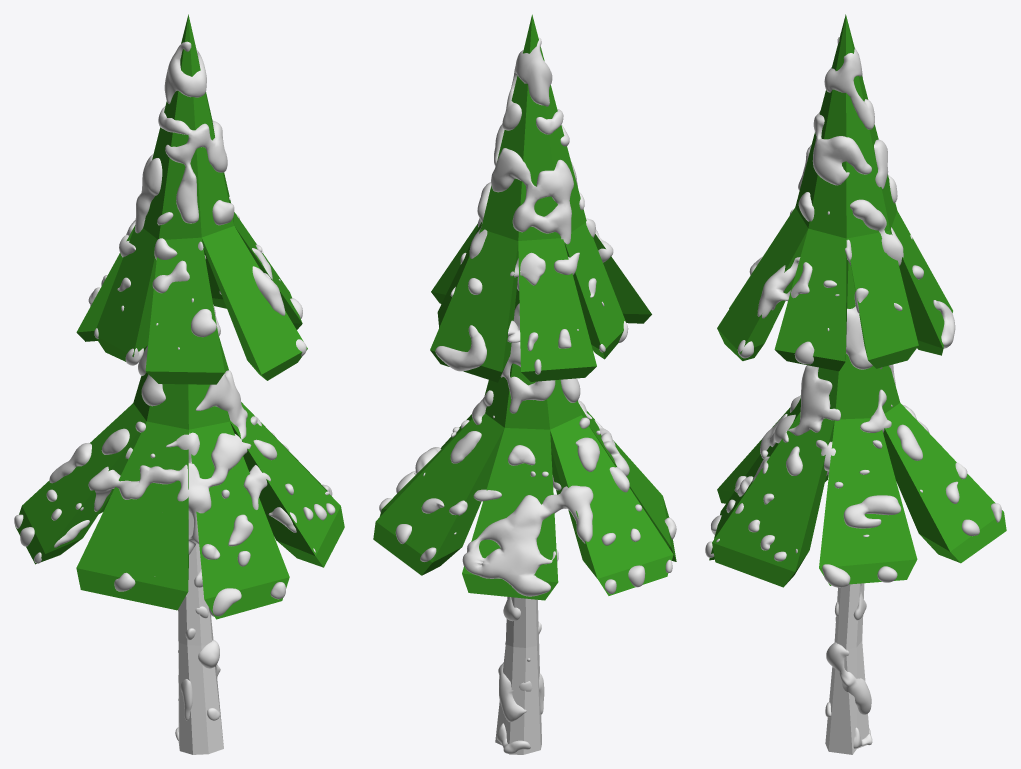
File: Tree 1.fbx
3 renders of one model, left to right at view 1: azimuth 30°, elevation 25°; view 2: azimuth 150°, elevation 25°; view 3: azimuth 270°, elevation 25°, orthographic.
Parts seen in each view (by area): view 1: Tree_Fir_1.001, 3dmSnow.003; view 2: Tree_Fir_1.001, 3dmSnow.003; view 3: Tree_Fir_1.001, 3dmSnow.003.
Part boxes in pixels (x1=…): Tree_Fir_1.001: x1=15, y1=14, x2=344, y2=754; 3dmSnow.003: x1=14, y1=41, x2=335, y2=740; Tree_Fir_1.001: x1=373, y1=14, x2=676, y2=754; 3dmSnow.003: x1=379, y1=37, x2=676, y2=753; Tree_Fir_1.001: x1=709, y1=14, x2=1006, y2=754; 3dmSnow.003: x1=705, y1=37, x2=1001, y2=748.
Size of the model in its own units: 94 by 233 by 87.66.
